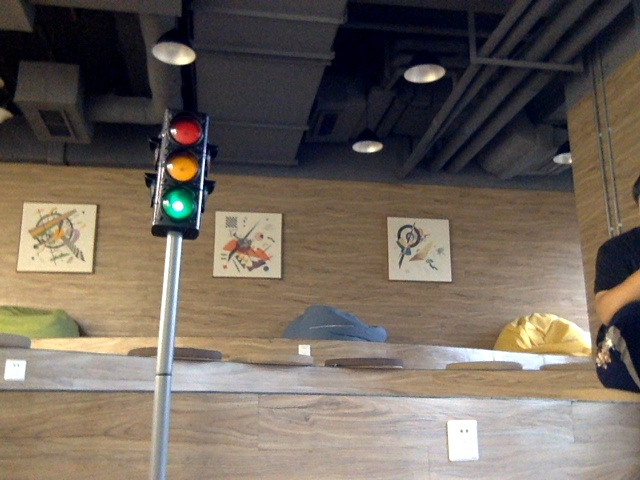green: (160, 119, 198, 226)
